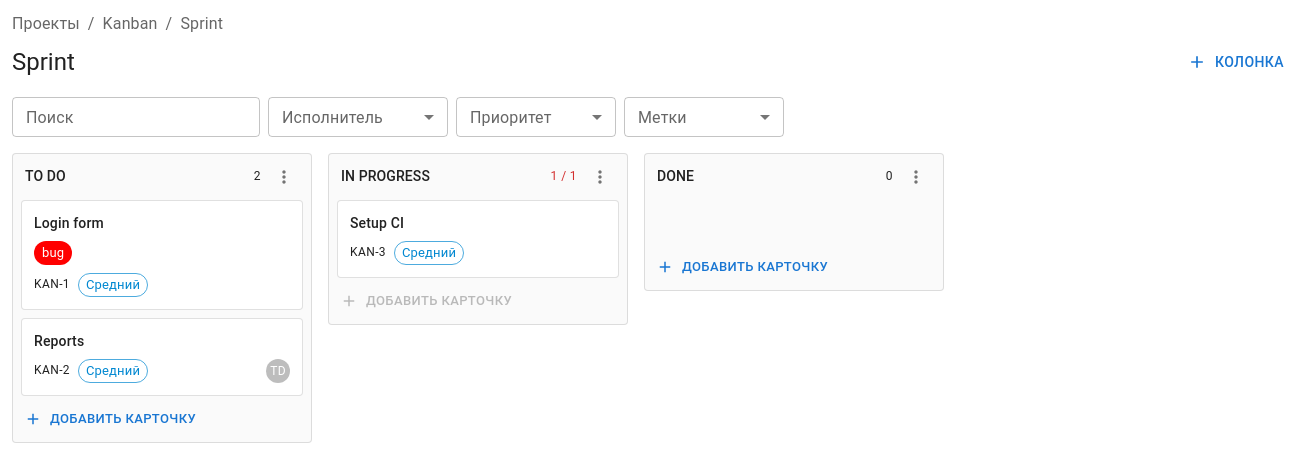
BoardPage › фильтрует по исполнителю и приоритету
expect the text "Login form" is shown: met, box [34,214,104,230]
What coordinates should you click on to do the following:
click the dropdown named "Исполнитель" next to "Исполнитель"
I would click on:
 (358, 116)
Its box is [268,96,448,136].
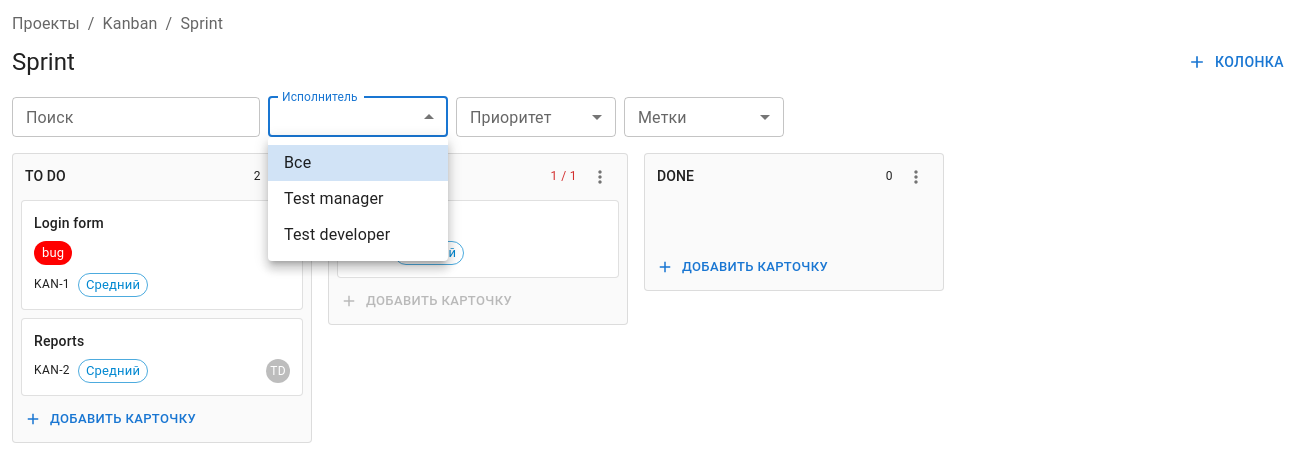
What coordinates should you click on to do the following:
click the option "Test developer"
I would click on:
 (337, 234)
Its box is [284,225,390,244].
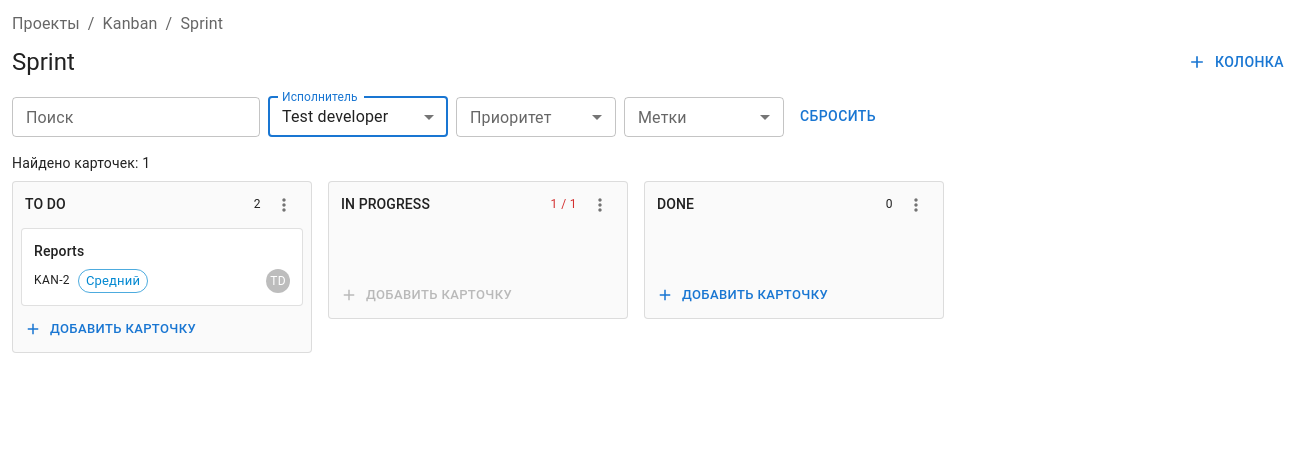
expect the text "Reports" is shown: met, box [34,242,84,258]
expect the button "Login form" is gone: met
What coordinates should you click on to do the following:
click the dropdown named "Приоритет" next to "Приоритет"
I would click on:
 (536, 116)
Its box is [456,96,616,136].
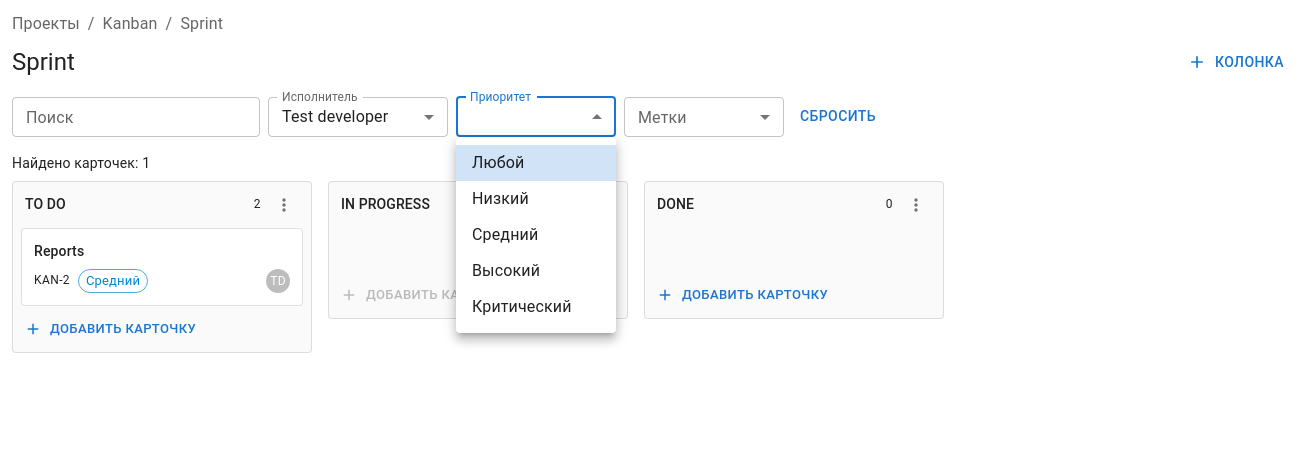
What coordinates should you click on to do the following:
click the option "Высокий"
I would click on:
 (506, 270)
Its box is [472,261,540,280].
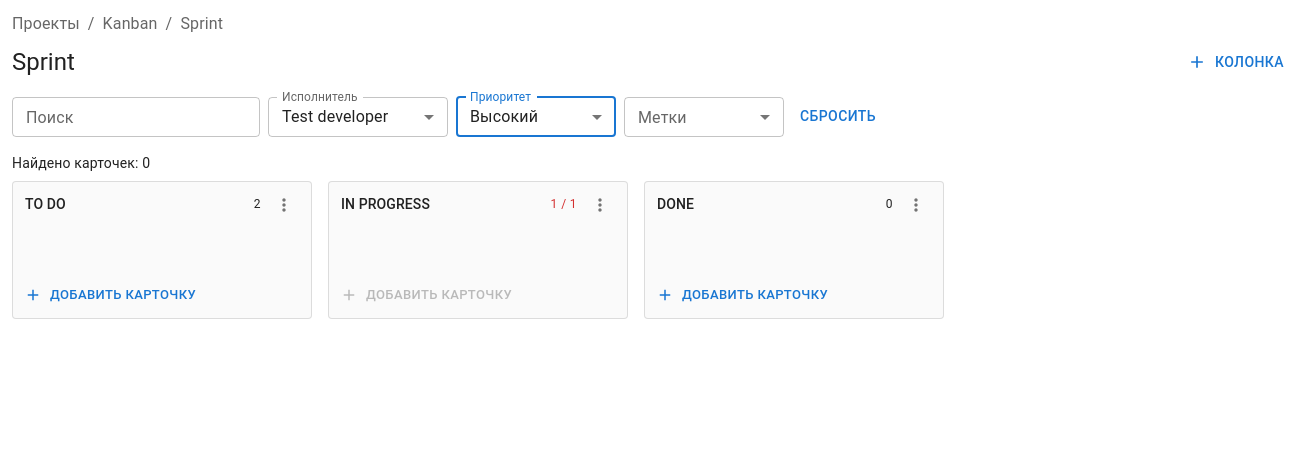
expect the button "Reports" is gone: met
